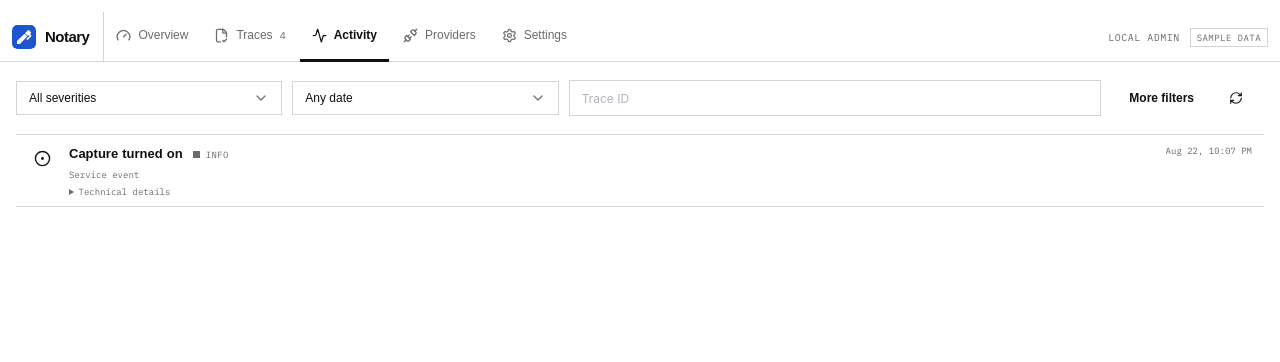
Test: Notary admin dashboard › keeps service-only events inspectable and Activity free of Trace contents
The image size is (1280, 362).
expect the text "Capture turned on" is shown: met, box [69,144,183,164]
expect the text "Service event" is shown: met, box [69,169,139,180]
Click the heading "Technical details": (124, 192) [78,186,170,197]
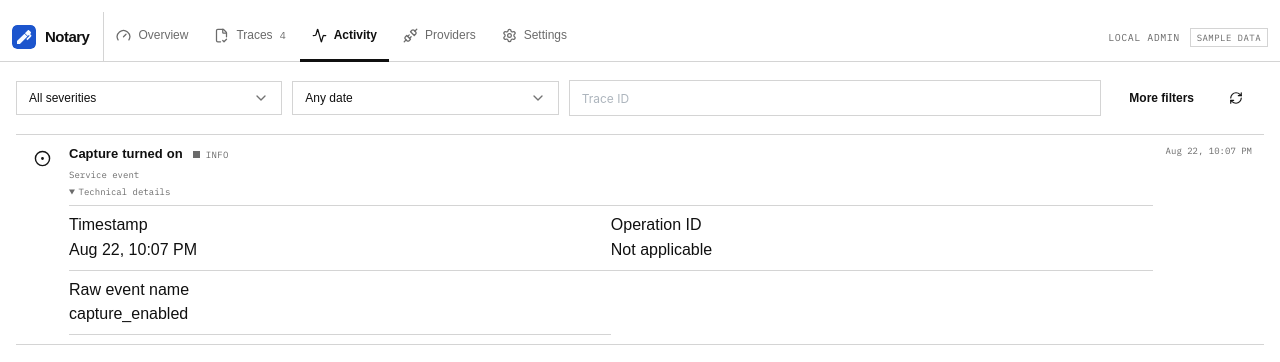
expect the text "capture_enabled" is shown: met, box [69,306,188,322]
